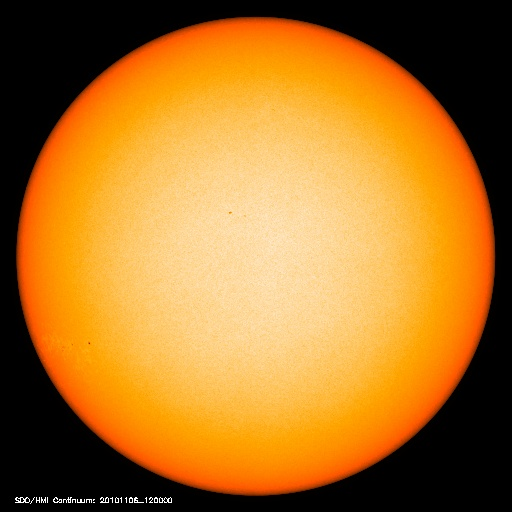sunspot: (54, 332, 102, 358), (214, 200, 257, 226)
